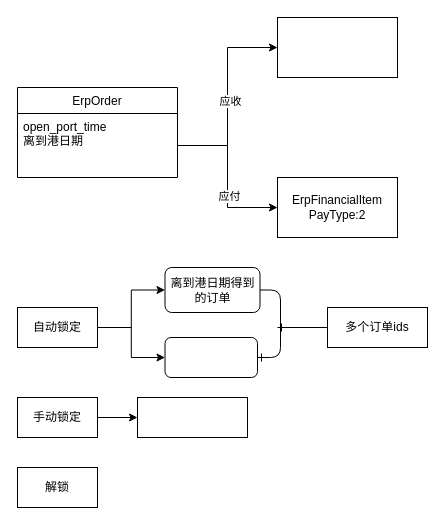
Some shapes in this 445 by 525 pixel diagram are drawn without their labels. The centre of each missing label's shape, as x and y in pixels:
ErpFinancialItem PayType:1: the point at 337,47
单个订单id: the point at 192,417
锁定之后解锁: the point at 211,357
